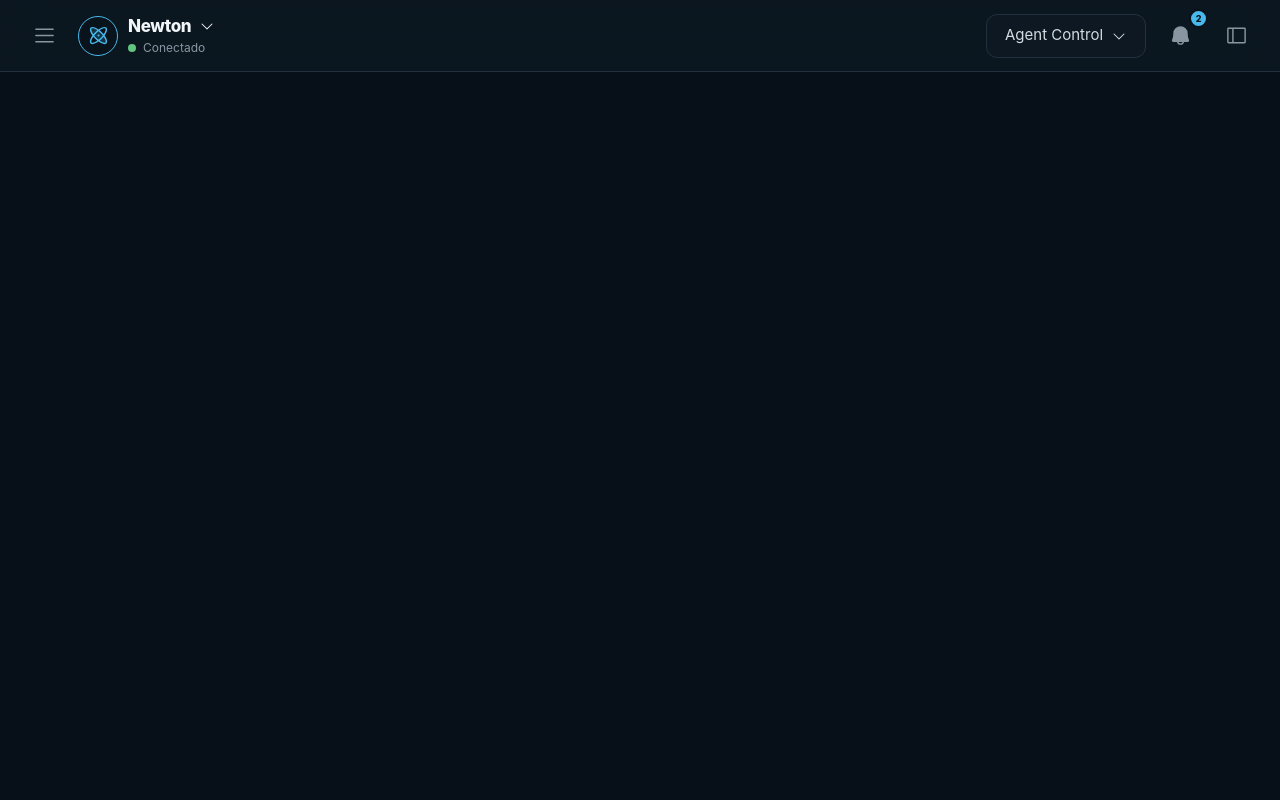
Scenario: notification menu › shows unread count and only the ten most recent chats grouped by day
The width and height of the screenshot is (1280, 800).
Check: the text named "2 chats sin leer" reads "2", box [1196,12,1201,24]
Click the button named "Abrir notificaciones" at (1180, 36), box [1158,14,1202,58]
(page scrolled)
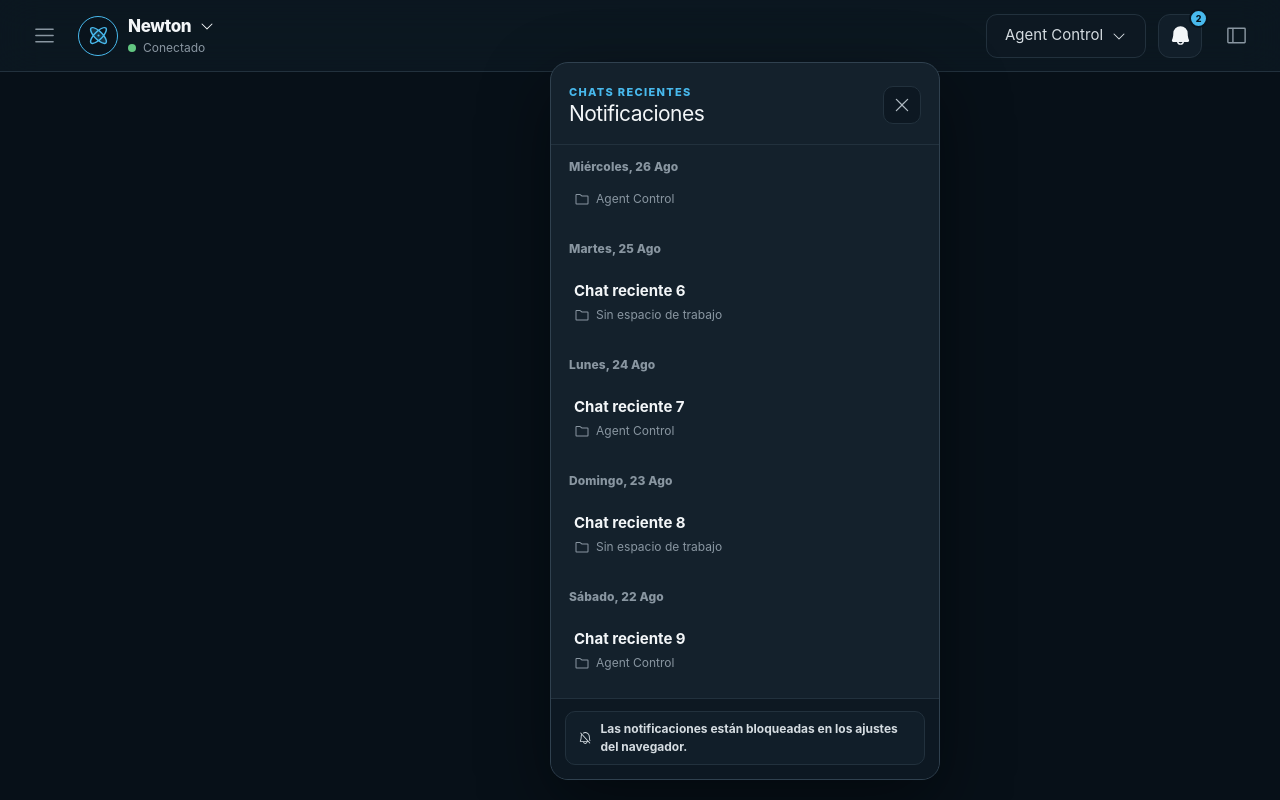
Check: the text "Chat reciente 9" is shown, box [574,629,686,648]
